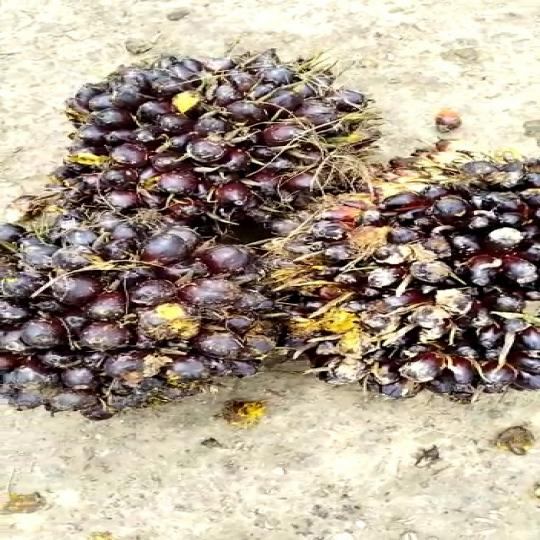mentah: (252, 155, 540, 404), (0, 202, 282, 426), (56, 46, 381, 233)
